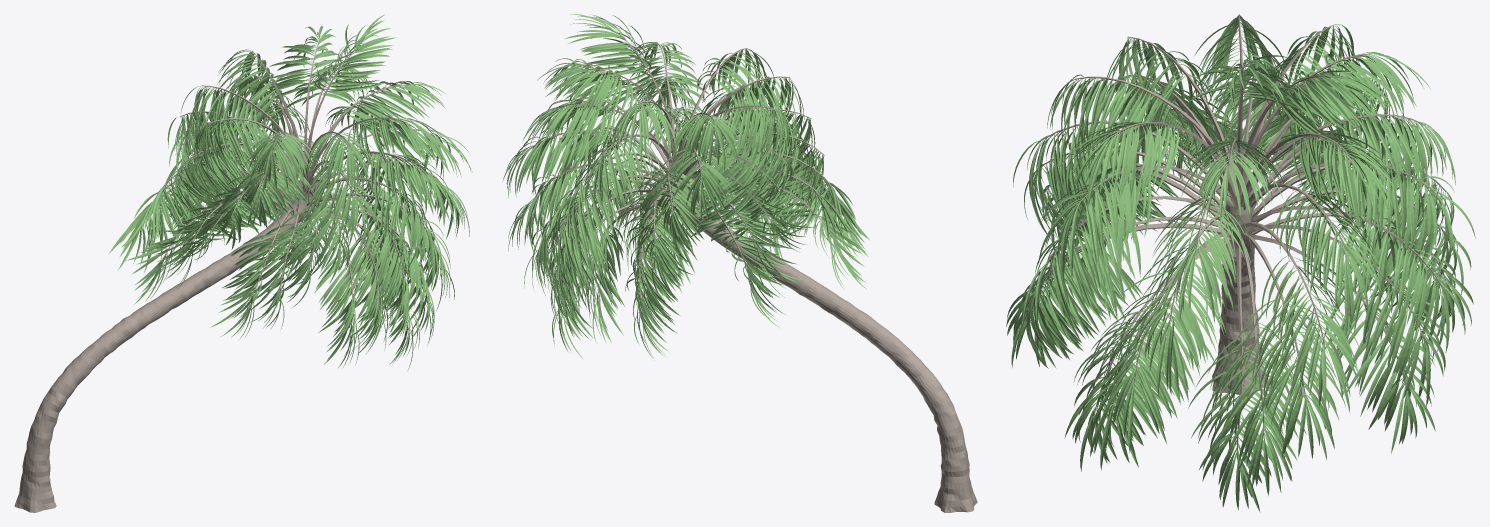
Rendered from palm-tree.gltf.
3 views of the same model, side by side, from view 1: azimuth 30°, elevation 25°; view 2: azimuth 150°, elevation 25°; view 3: azimuth 270°, elevation 25° (orthographic). The views are drawn at different scales.
Visible parts, largest first — view 1: Leaves, Curly Palm tree.1, Branches; view 2: Leaves, Curly Palm tree.1, Branches; view 3: Leaves, Branches, Curly Palm tree.1.
Part boxes in pixels (<box>): Leaves: <box>108,14,472,369</box>; Curly Palm tree.1: <box>14,178,315,512</box>; Branches: <box>157,40,441,327</box>; Leaves: <box>502,14,869,359</box>; Curly Palm tree.1: <box>666,168,977,512</box>; Branches: <box>526,34,842,314</box>; Leaves: <box>1006,15,1475,512</box>; Branches: <box>1026,14,1450,458</box>; Curly Palm tree.1: <box>1212,204,1268,394</box>.
Bounding box in the file's own units: 3.51 × 3.03 × 2.27.
